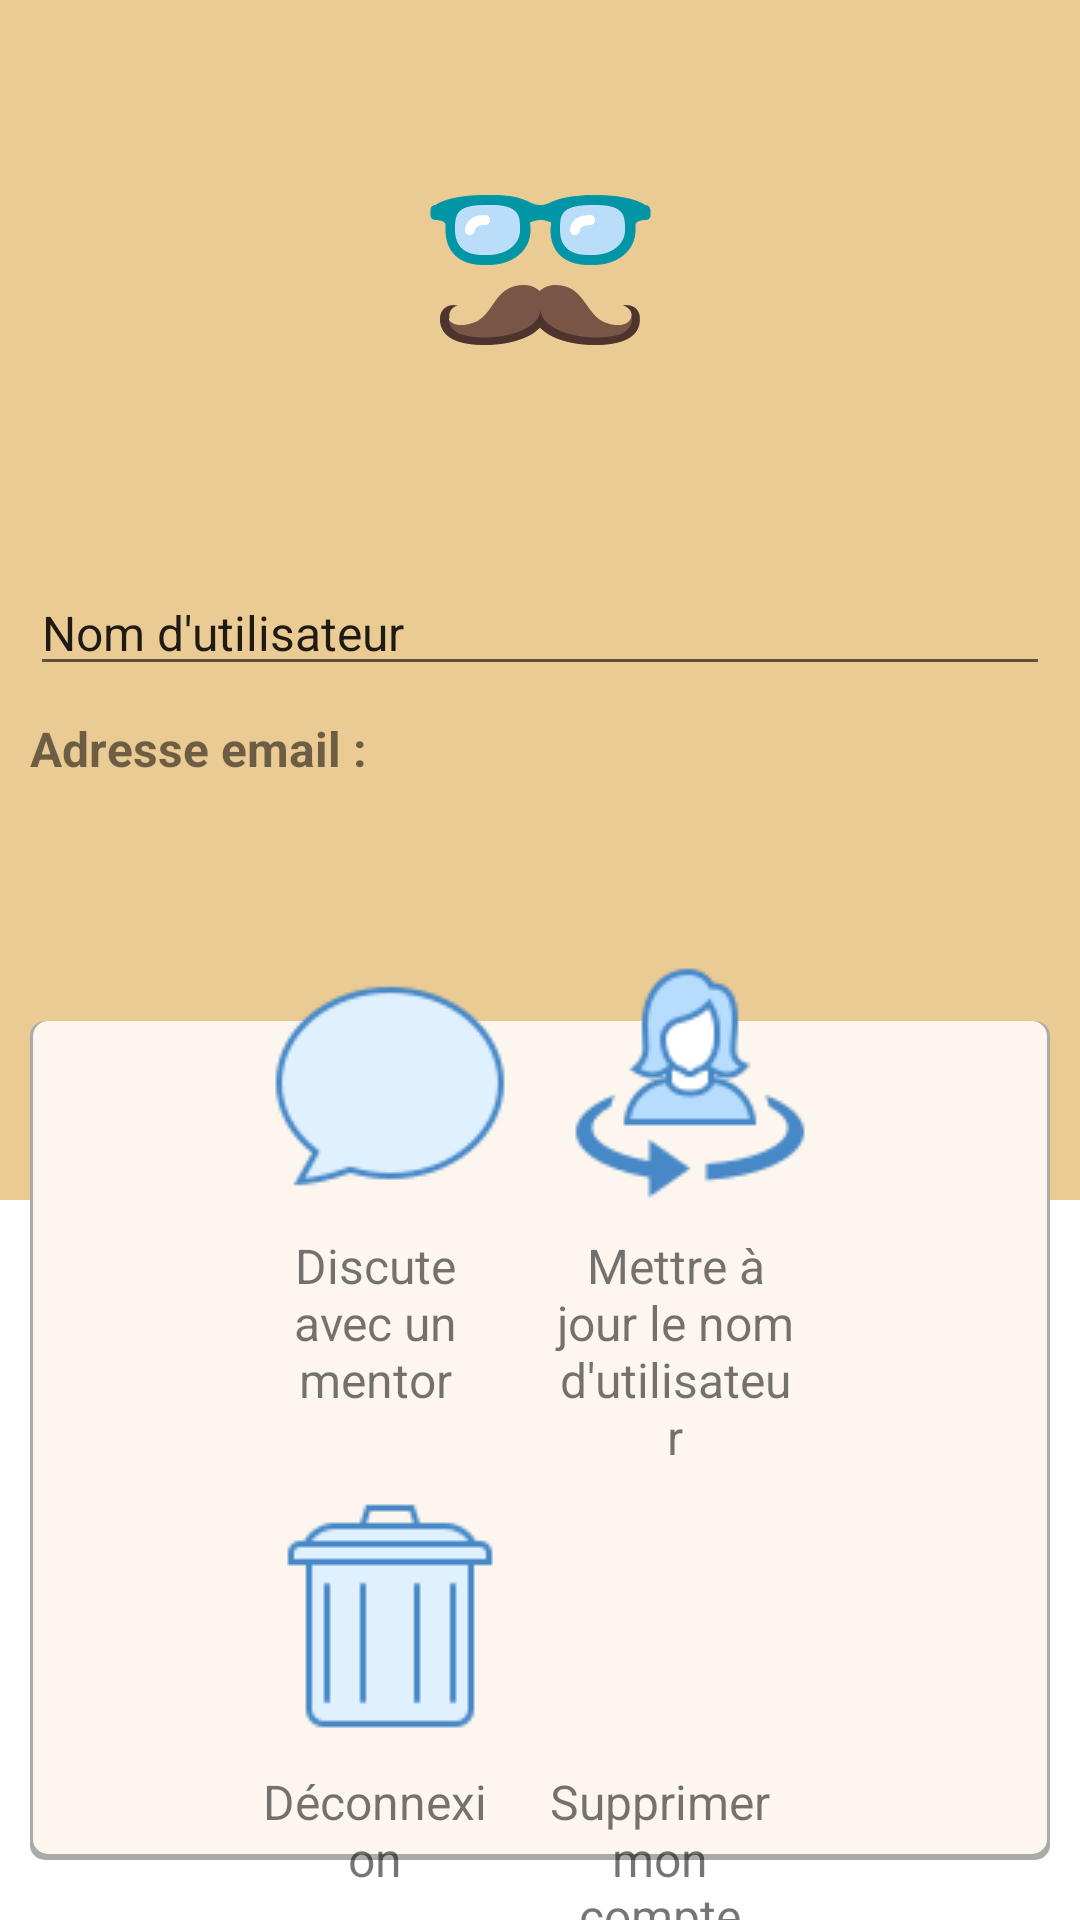

Icon bounding boxes for this 1080*1920 phone screenshot, format (x1, y1, x2, y2):
delete: (287, 1504, 493, 1728)
moustache: (430, 195, 651, 345)
